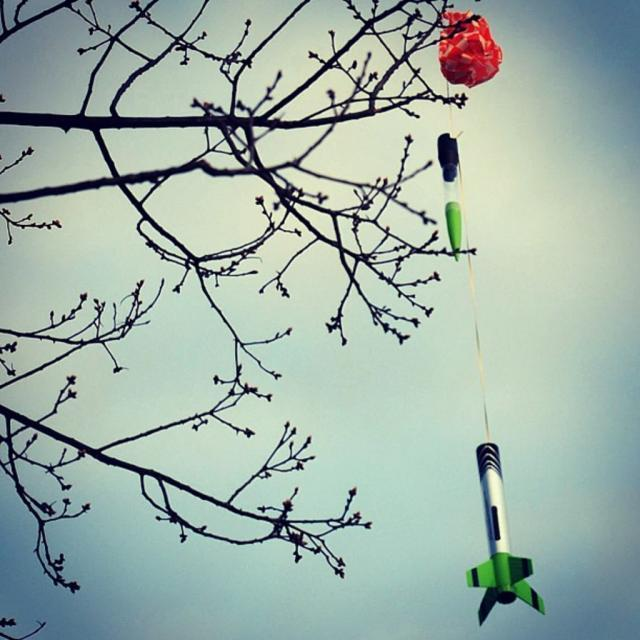missile: (466, 435, 543, 626)
